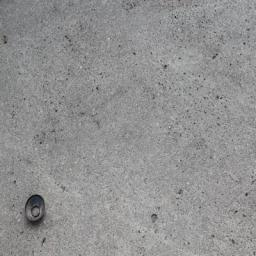FOD: (22, 193, 50, 227)
